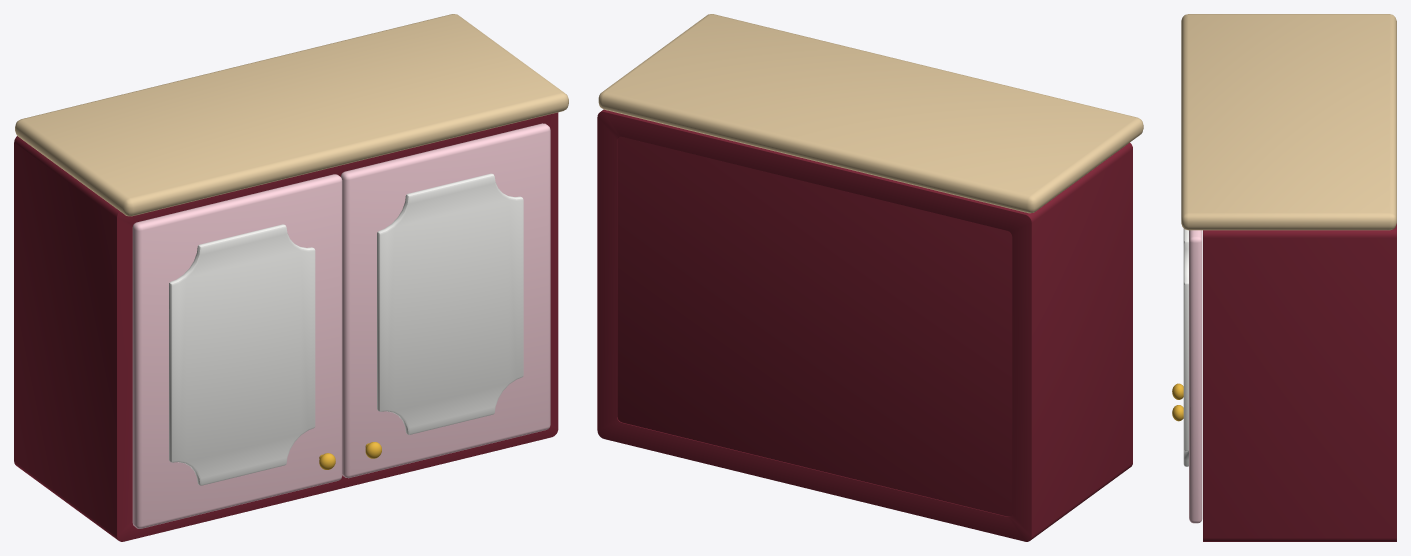
File: armario_parede_2portas_classica_vinho.glb
3 renders of one model, left to right at view 1: azimuth 30°, elevation 25°; view 2: azimuth 150°, elevation 25°; view 3: azimuth 270°, elevation 25°, orthographic. The views are drawn at different scales.
Parts seen in each view (by area): view 1: armario_parede_2portas_classica_vinho, porta_1, porta_2; view 2: armario_parede_2portas_classica_vinho; view 3: armario_parede_2portas_classica_vinho, porta_2.
Boxes of the visible parts, bbox=[...] form: armario_parede_2portas_classica_vinho: bbox=[14, 14, 568, 541]; porta_1: bbox=[132, 174, 342, 528]; porta_2: bbox=[340, 123, 550, 478]; armario_parede_2portas_classica_vinho: bbox=[597, 14, 1143, 541]; armario_parede_2portas_classica_vinho: bbox=[1181, 14, 1396, 541]; porta_2: bbox=[1172, 228, 1202, 523].
Size of the model in its own units: 0.798 by 0.6 by 0.3711.
1 material, 1 textured.
